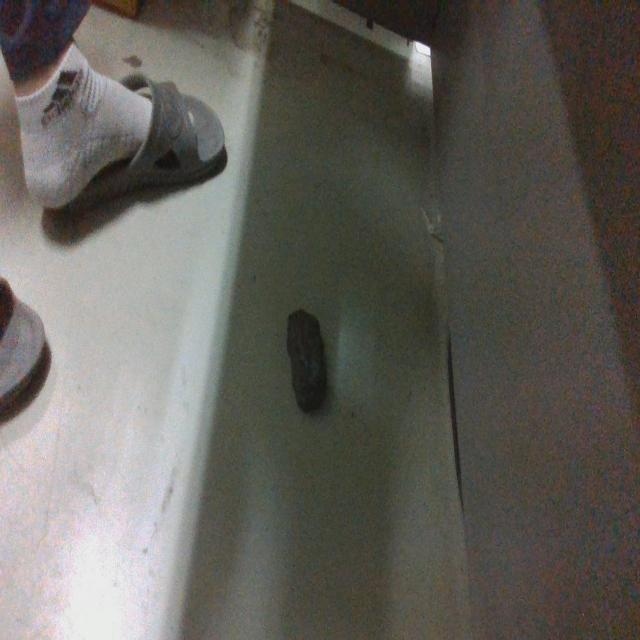stone: (287, 307, 327, 411)
